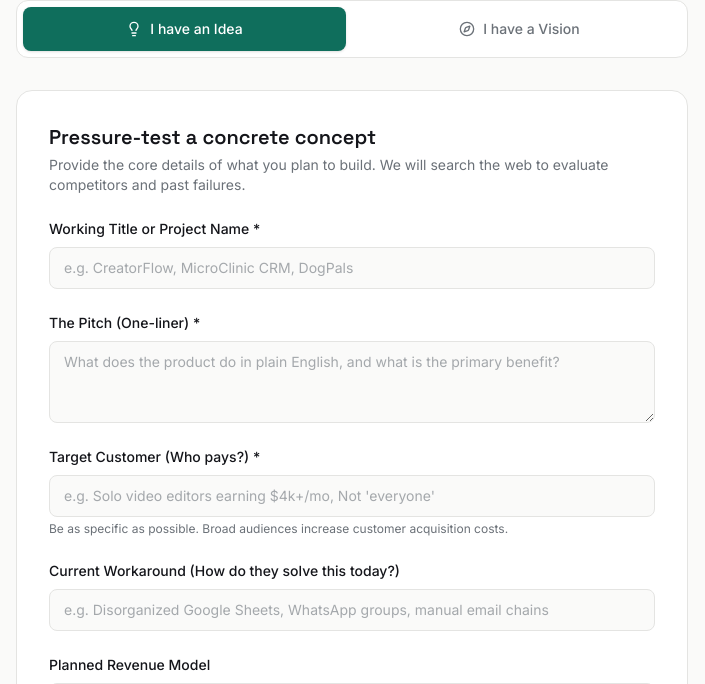
NewIdeaForm Component › switches to 'I have a Vision' track when clicked and displays problem fields
Click the tab "I have a Vision" at (520, 29), box [358, 7, 681, 51]
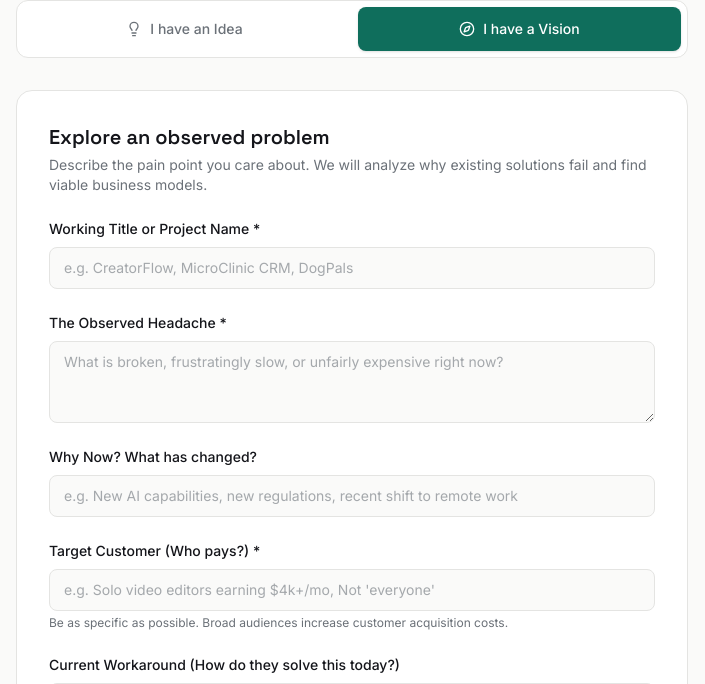
Check: the text box labelled "The Observed Headache *" is shown, box [49, 341, 655, 423]
Check: the field labelled "Why Now? What has changed?" is shown, box [49, 475, 655, 517]
